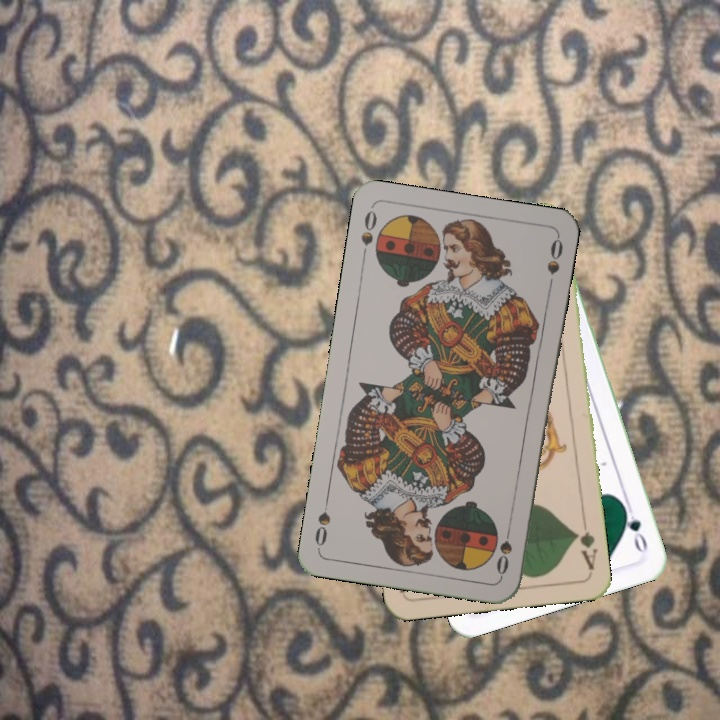GA: (570, 515, 600, 573)
GO: (618, 498, 650, 556)
SO: (492, 519, 515, 578), (357, 206, 380, 263)
